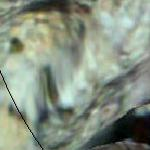alive: (8, 15, 144, 148)
